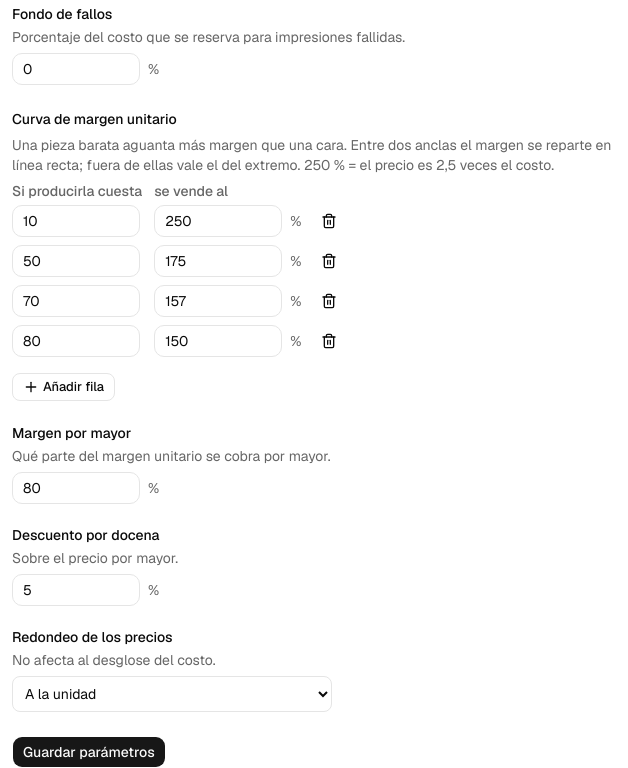
Test: ConfigForm › si el servidor rechaza, su motivo se muestra y no se da por guardado
The width and height of the screenshot is (628, 768).
(page scrolled)
Click the button "Guardar parámetros". click: (89, 752)
box: x1=12 y1=736 x2=166 y2=767
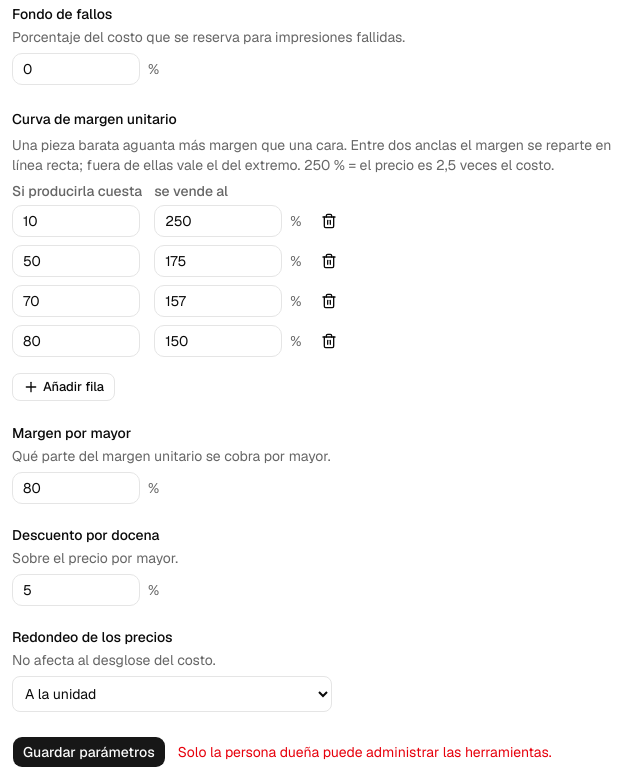
Expected: the message shows "dueña", x1=178 y1=743 x2=552 y2=761
